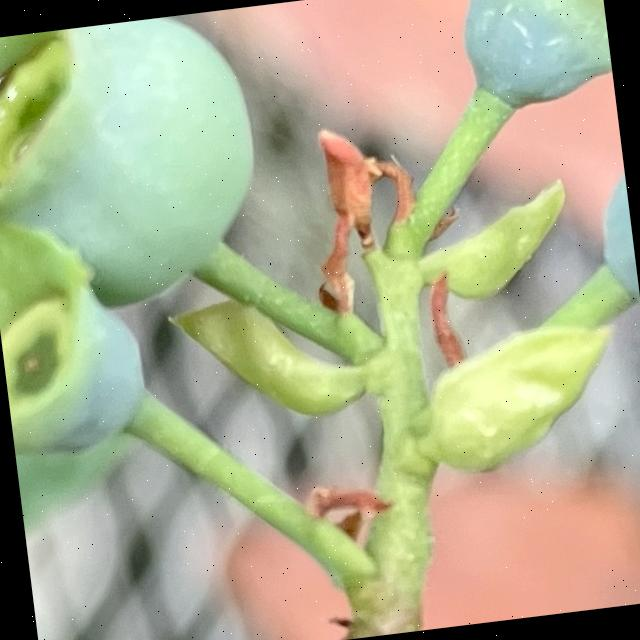Blueberries: (0, 6, 290, 350)
